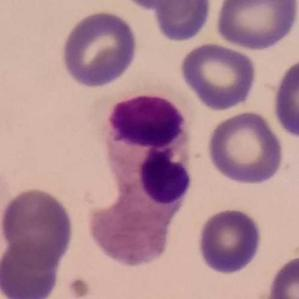Neutrophil: (88, 92, 191, 265)
Platelets: (65, 275, 93, 299)
RBC: (58, 8, 140, 90), (0, 185, 76, 269), (205, 109, 286, 187), (177, 40, 258, 112), (195, 206, 265, 276), (213, 0, 299, 52), (0, 236, 64, 299), (151, 0, 214, 43), (270, 54, 299, 141), (264, 253, 299, 299), (115, 0, 197, 13)
